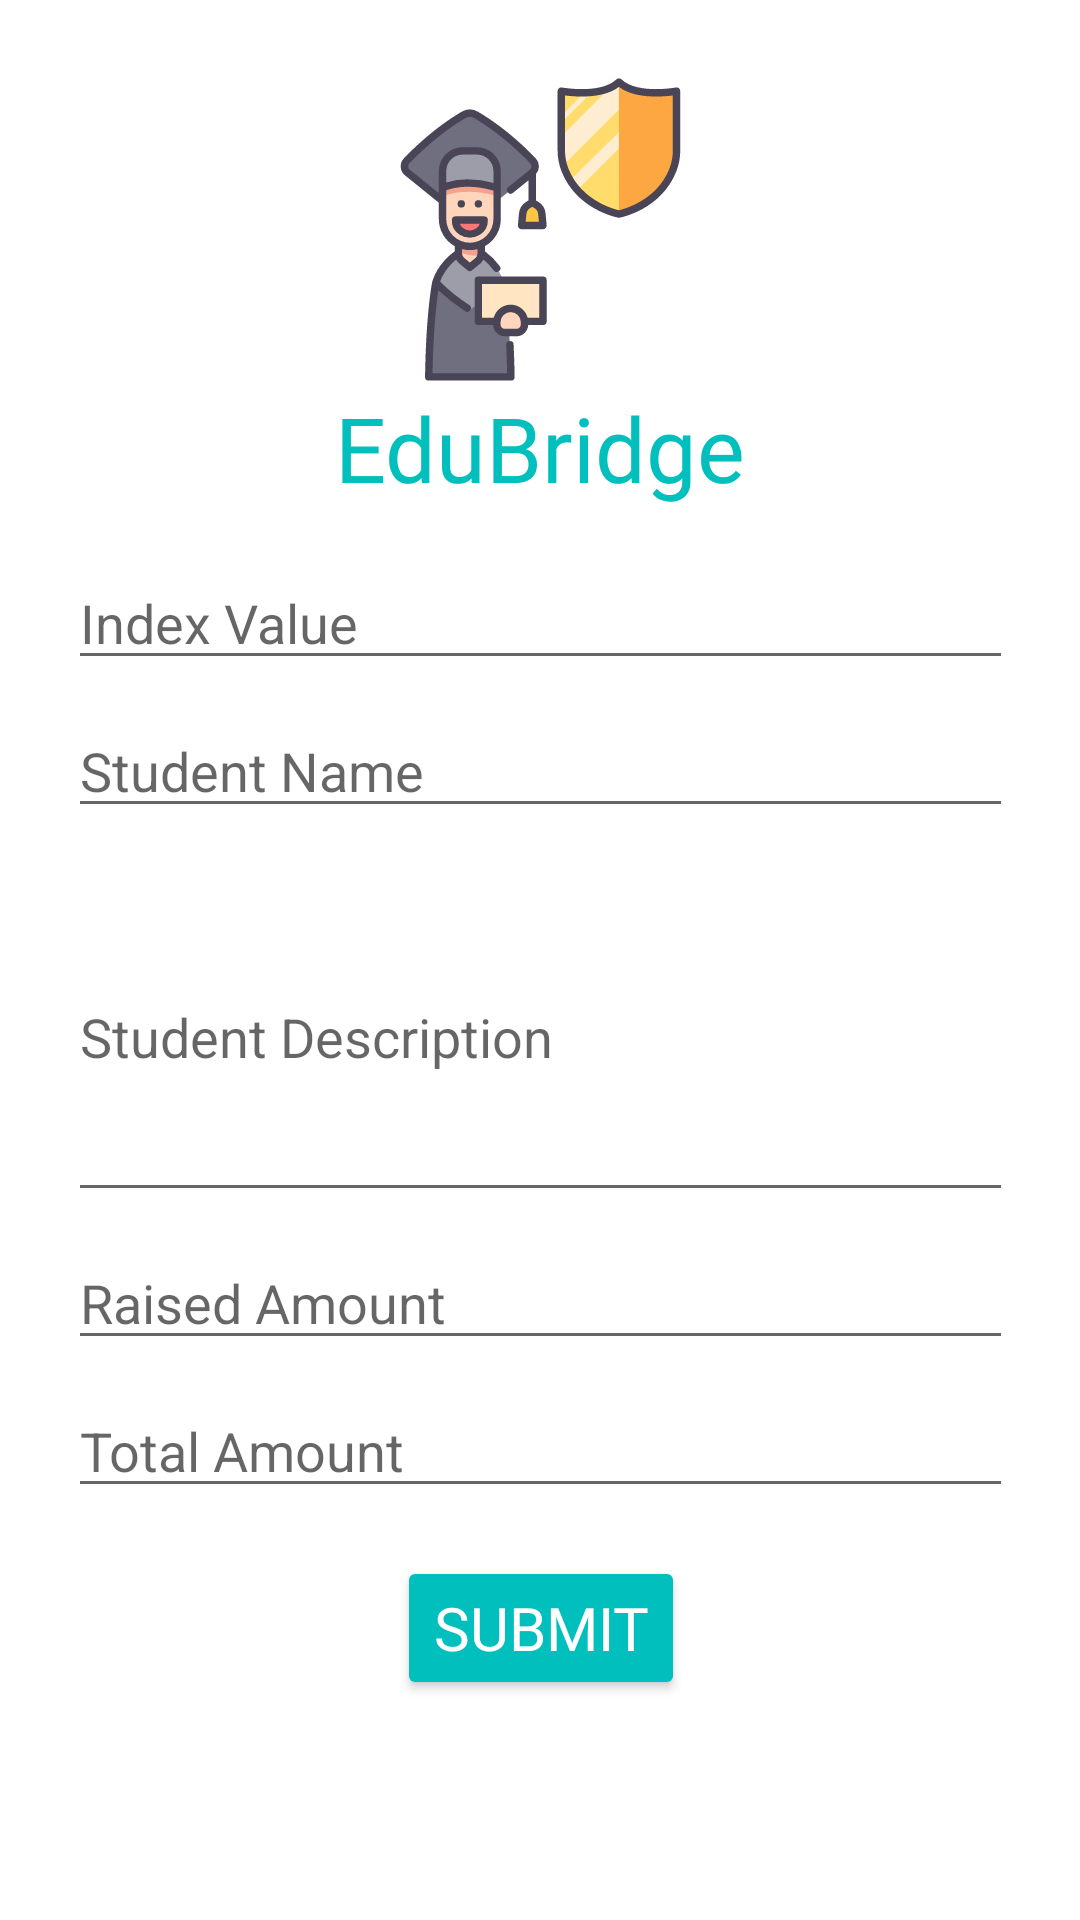

Where to tap for icons on this 1080w x 1920h app screen, as [x,y]:
education: [540,229]
